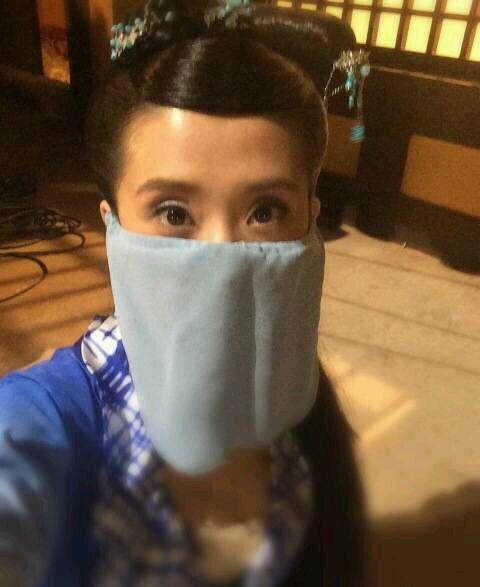OK: (111, 171, 325, 395)
